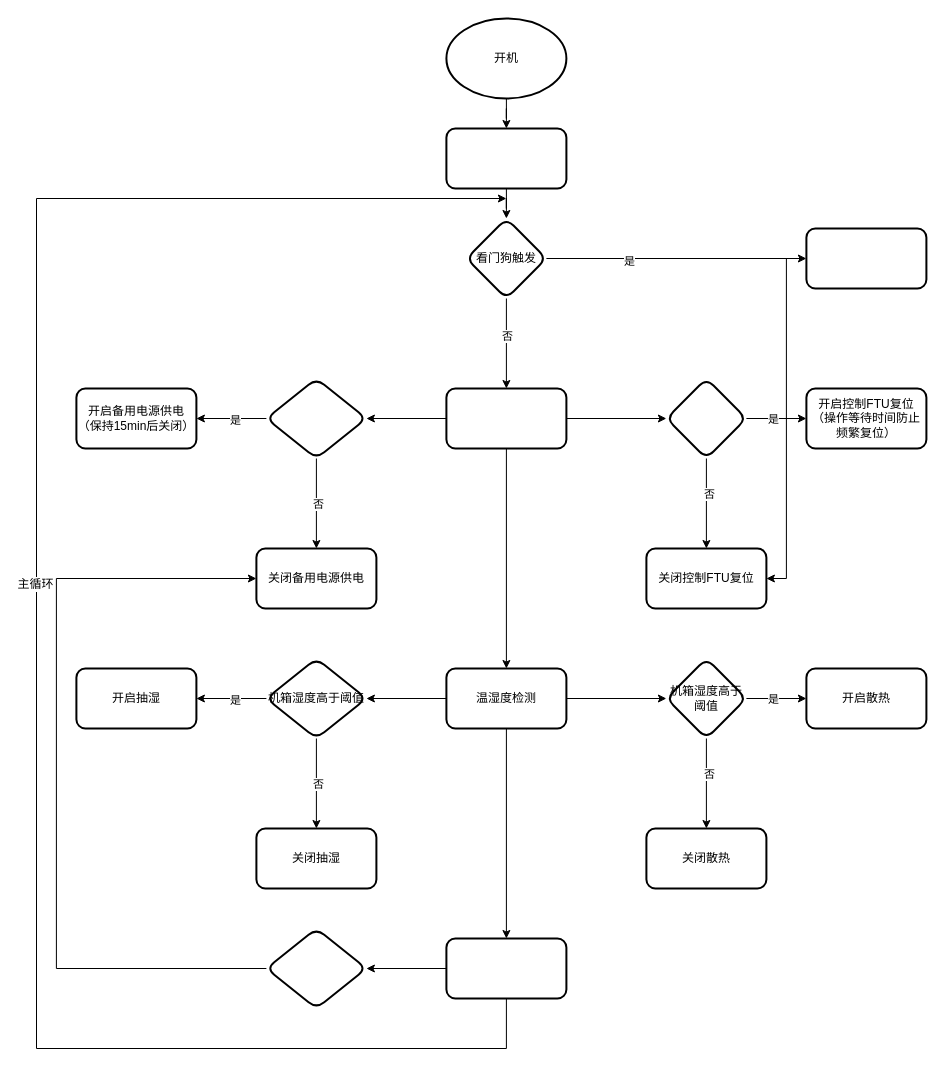
Some shapes in this 945 by 1074 pixel diagram are drawn without their labels. The centre of each missing label's shape, as x and y in pixels:
FTU 485总线无通讯（>15min）: point 706,418
FTU状态检测: point 506,418
FTU电容电压低: point 316,418
MCU复位: point 866,258
外设初始化: point 506,158
电压低于阈值: point 316,968
设备电量检测: point 506,968
